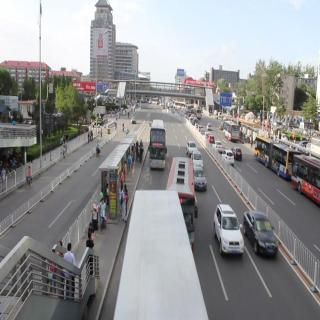BigCar: (167, 154, 196, 235), (255, 135, 291, 184), (292, 154, 320, 198), (150, 117, 167, 167), (225, 122, 239, 143)
Car: (212, 202, 246, 258), (243, 210, 282, 257), (195, 167, 208, 192), (232, 144, 243, 163), (222, 152, 235, 165), (186, 140, 198, 154), (193, 151, 203, 167), (211, 141, 222, 153), (130, 116, 137, 124), (207, 122, 213, 129), (220, 121, 223, 130)
